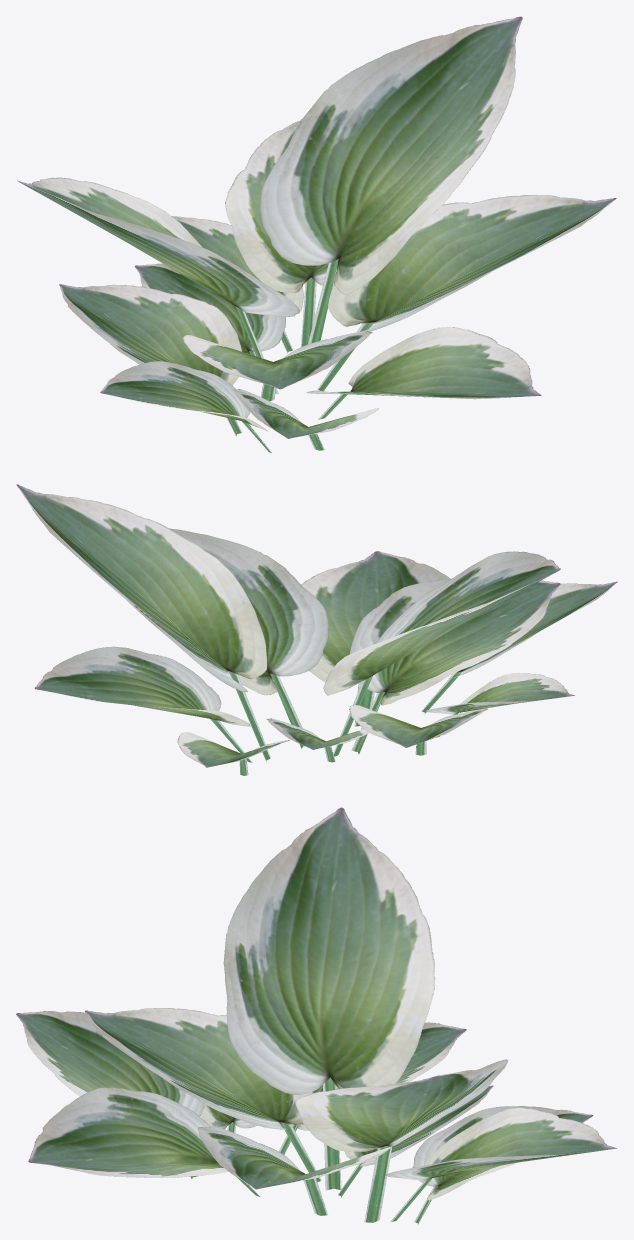
File: plant_small_wg_04AA.fbx
The picture shows the model from 3 angles, top to bottom: view 1: azimuth 30°, elevation 25°; view 2: azimuth 150°, elevation 25°; view 3: azimuth 270°, elevation 25°; orthographic projection. The views are drawn at different scales.
Parts seen in each view (by area): view 1: plant_small_wg_04AA; view 2: plant_small_wg_04AA; view 3: plant_small_wg_04AA.
Boxes of the visible parts, bbox=[...] form: plant_small_wg_04AA: bbox=[17, 16, 616, 453]; plant_small_wg_04AA: bbox=[16, 484, 617, 775]; plant_small_wg_04AA: bbox=[16, 807, 616, 1224].
Bounding box in the file's own units: 134 × 63.37 × 129.
